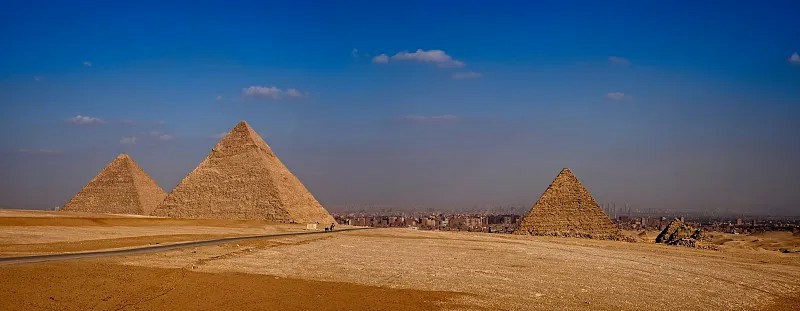Pyramid: (151, 120, 336, 224), (512, 167, 621, 237), (61, 155, 167, 216)
